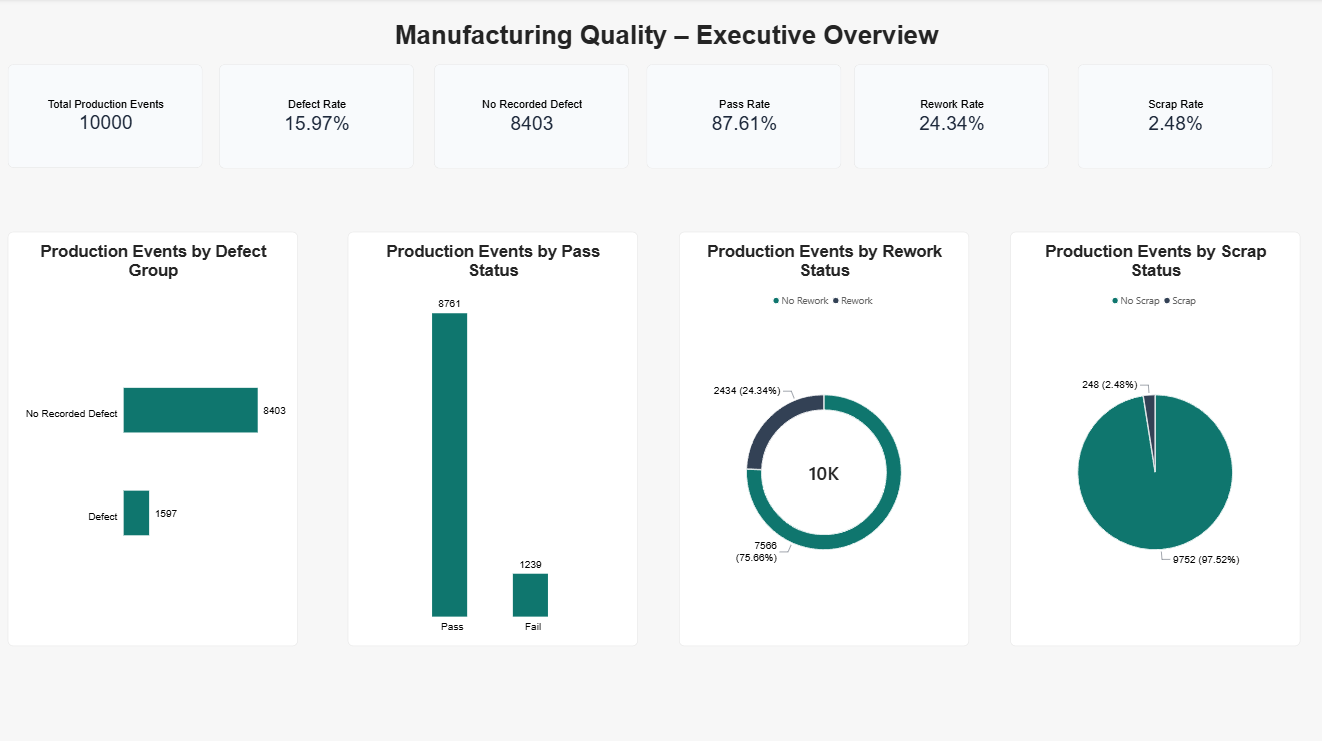

This screenshot's page, from the dashboard's own definition file:
{"tool":"powerbi","page":{"name":"Overall Performance","canvas":[1920,1080],"ordinal":0},"visuals":[{"type":"textbox","box":[11.9,31.8,1907.3,63.6],"z":0},{"type":"cardVisual","fields":{"Data":["CountNonNull(Clean_Data.event_id)"]},"box":[12.7,95.9,282.1,151],"z":1000},{"type":"cardVisual","fields":{"Data":["Avg(Clean_Data.Defect_flag)"]},"box":[318.5,95.9,282,151],"z":2000},{"type":"cardVisual","fields":{"Data":["CountNonNull(Clean_Data.Defect_flag)"]},"box":[629.8,95.9,282,151],"z":3000},{"type":"cardVisual","fields":{"Data":["Avg(Clean_Data.final_pass)"]},"box":[937.4,95.9,282,151],"z":4000},{"type":"cardVisual","fields":{"Data":["Avg(Clean_Data.Rework_flag)"]},"box":[1237.8,95.9,282,151],"z":5000},{"type":"cardVisual","fields":{"Data":["Avg(Clean_Data.scrap)"]},"box":[1561.7,95.9,282,151],"z":6000},{"type":"clusteredBarChart","title":"Production Events by Defect Group","fields":{"Category":["Clean_Data.Defect Group"],"Y":["CountNonNull(Clean_Data.Defect_flag)"]},"box":[12.7,338.4,420,600],"z":7000},{"type":"clusteredColumnChart","title":"Production Events by Pass  Status","fields":{"Category":["Clean_Data.Pass_Status"],"Y":["CountNonNull(Clean_Data.final_pass)"]},"box":[504.9,338.4,420,600],"z":8000},{"type":"donutChart","title":"Production Events by Rework Status","fields":{"Category":["Clean_Data.Rework Status"],"Y":["CountNonNull(Clean_Data.Rework_flag)"]},"box":[984.5,338.4,420,600],"z":9000},{"type":"pieChart","title":"Production Events by Scrap Status","fields":{"Category":["Clean_Data.Scrap_Status"],"Y":["CountNonNull(Clean_Data.scrap)"]},"box":[1464,338.4,420,600],"z":10000}]}

Visuals, with their boxes in screenshot pixels (x1, y1, x2, y2), scaled from the page's 1920x1080 canvas onto the 1322x741 screenshot:
textbox: 8/22/1321/65
cardVisual - CountNonNull(Clean_Data.event_id): 9/66/203/169
cardVisual - Avg(Clean_Data.Defect_flag): 219/66/413/169
cardVisual - CountNonNull(Clean_Data.Defect_flag): 434/66/628/169
cardVisual - Avg(Clean_Data.final_pass): 645/66/840/169
cardVisual - Avg(Clean_Data.Rework_flag): 852/66/1046/169
cardVisual - Avg(Clean_Data.scrap): 1075/66/1269/169
"Production Events by Defect Group" clusteredBarChart: 9/232/298/644
"Production Events by Pass  Status" clusteredColumnChart: 348/232/637/644
"Production Events by Rework Status" donutChart: 678/232/967/644
"Production Events by Scrap Status" pieChart: 1008/232/1297/644
